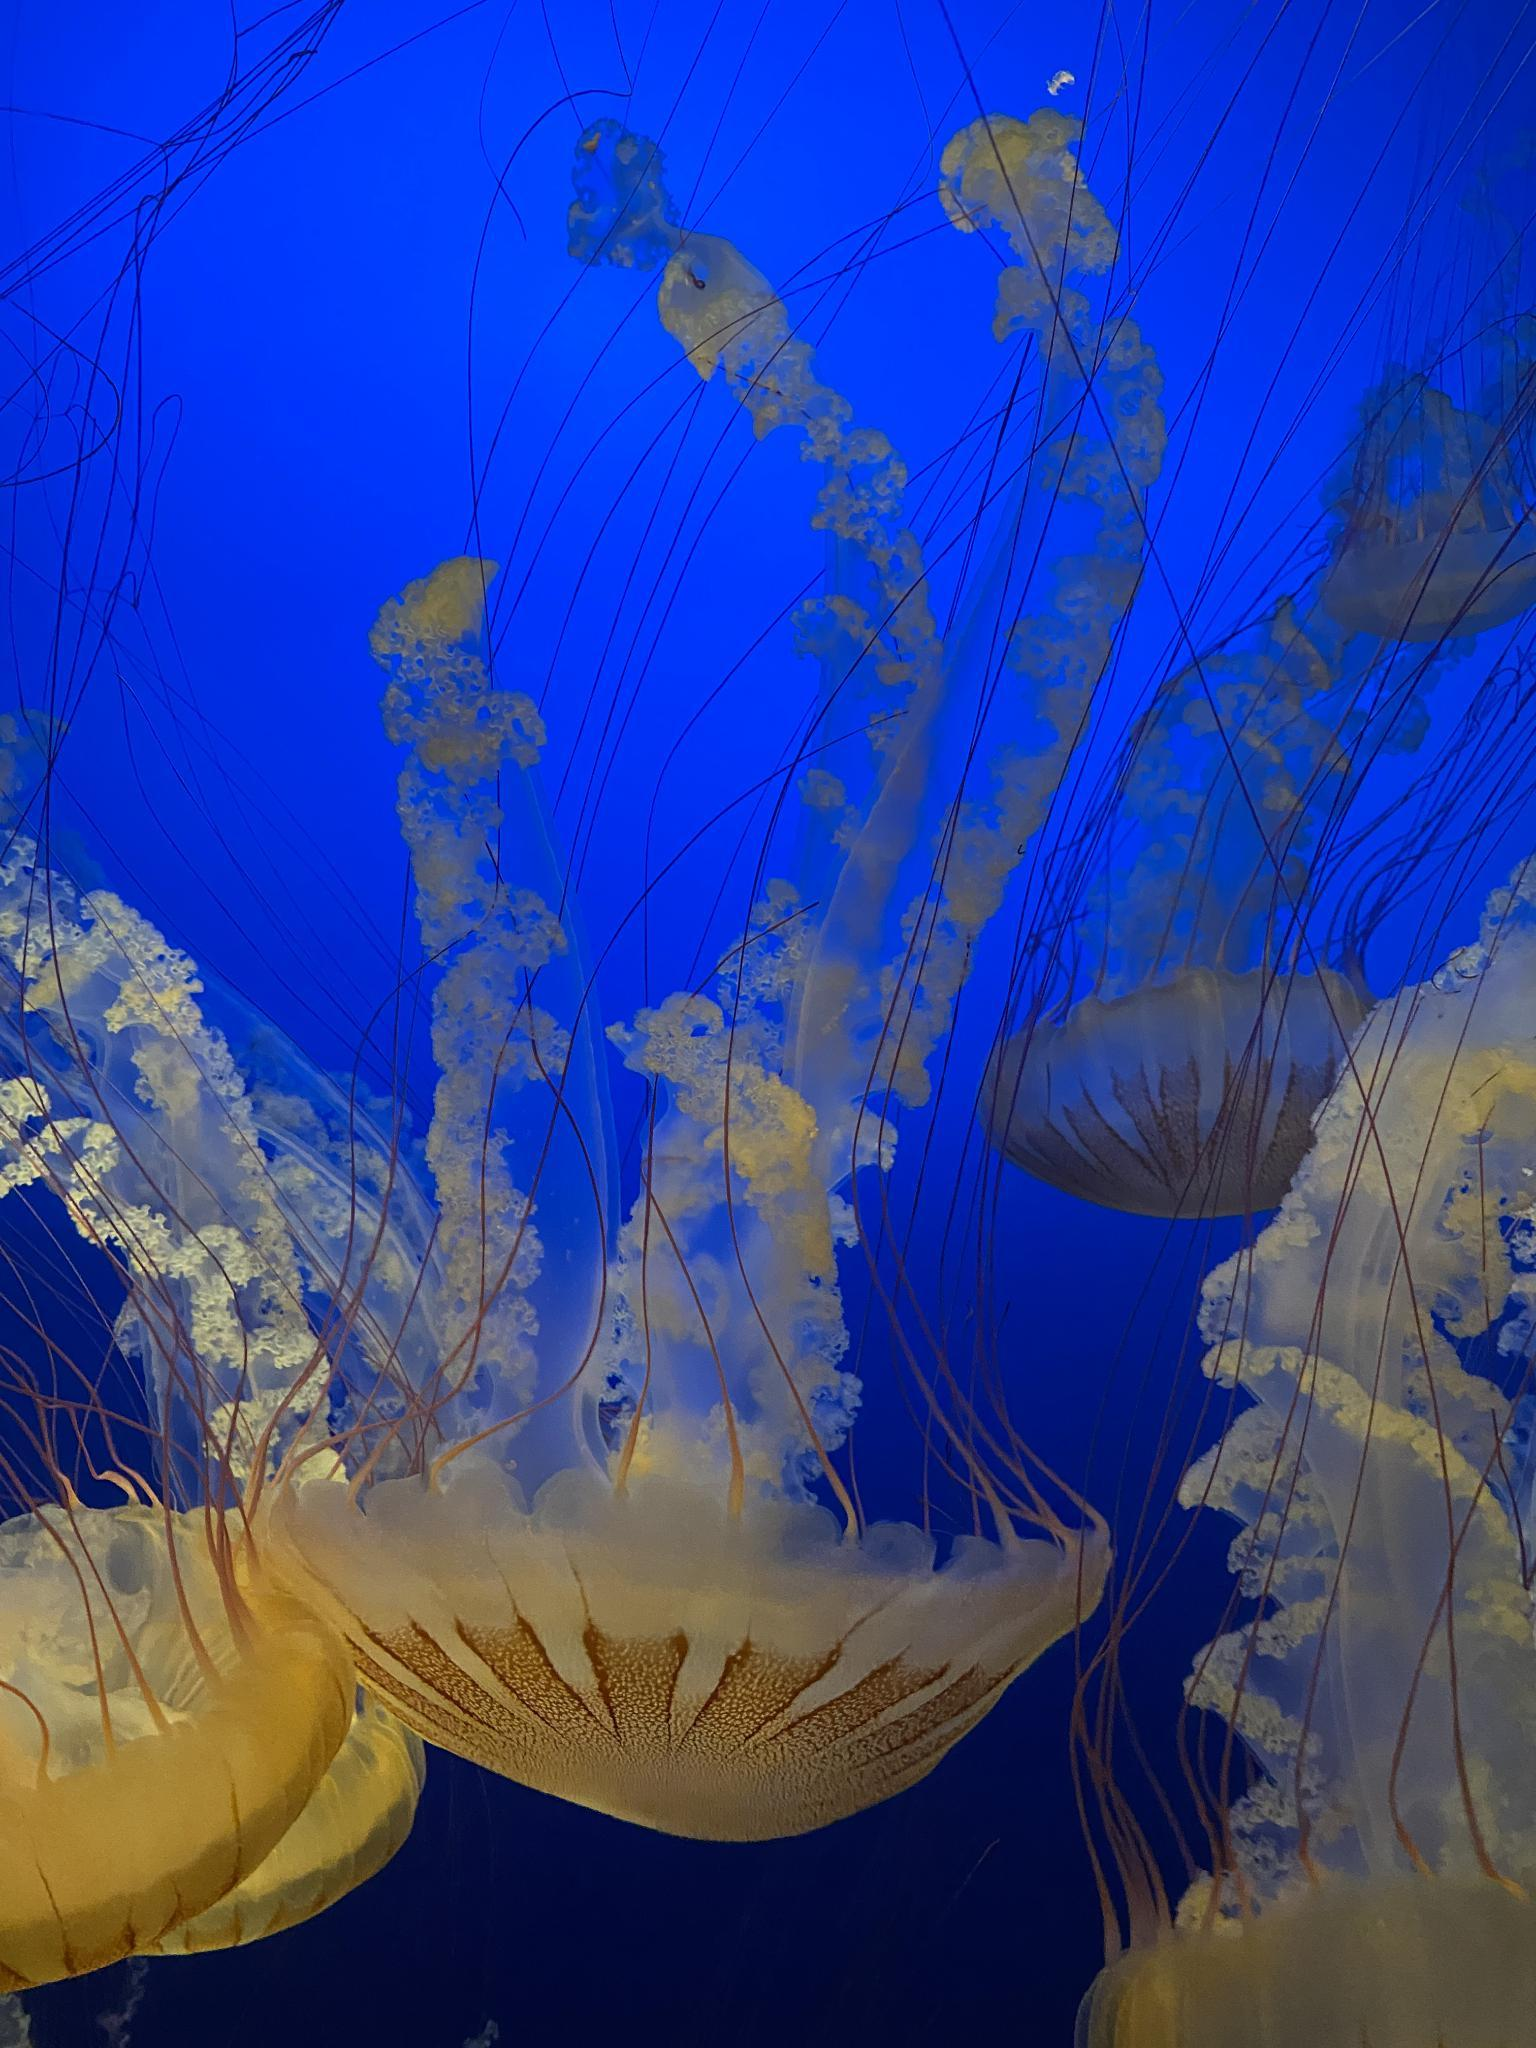jellyfish: (252, 1477, 1113, 1846), (0, 1503, 353, 1990), (19, 1690, 424, 1956), (981, 972, 1397, 1218), (1083, 1867, 1536, 2048), (1331, 531, 1534, 640)
